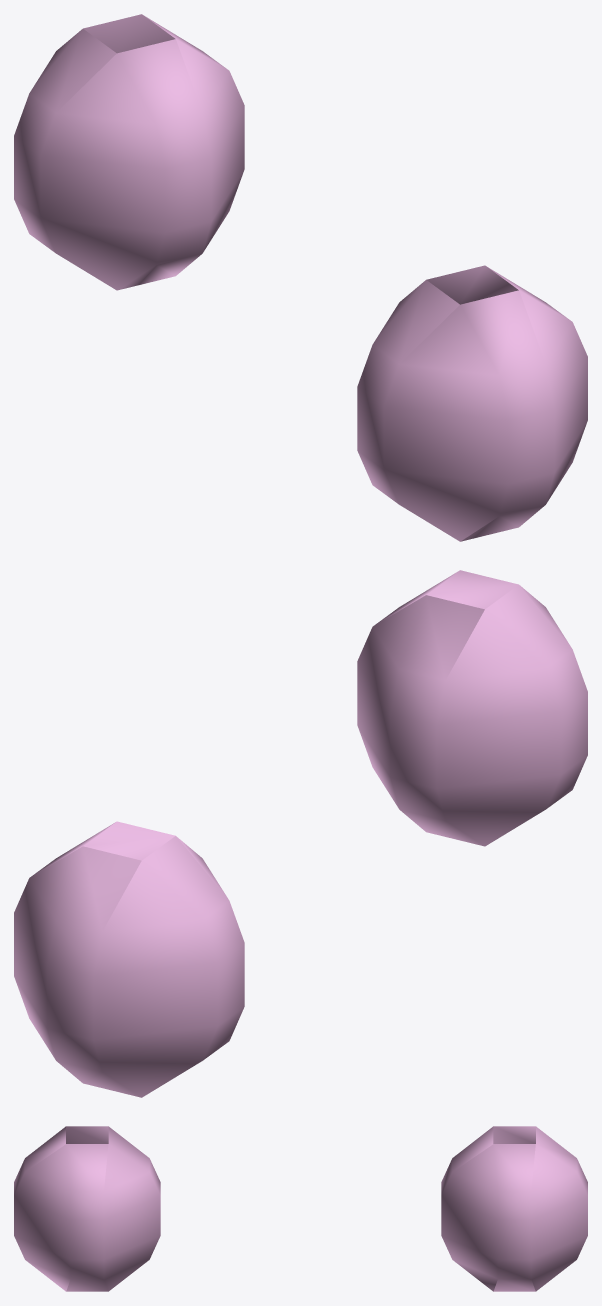
Rendered from PlushieUsi.fbx.
The picture shows the model from 3 angles, top to bottom: view 1: azimuth 30°, elevation 25°; view 2: azimuth 150°, elevation 25°; view 3: azimuth 270°, elevation 25°; orthographic projection. The views are drawn at different scales.
Visible parts, largest first — view 1: Sphere; view 2: Sphere; view 3: Sphere.
Part boxes in pixels (box(x1,y1,x2,y2)): Sphere: box(14, 14, 587, 541); Sphere: box(14, 570, 587, 1097); Sphere: box(14, 1126, 587, 1291).
Bounding box in the file's own units: 0.3825 × 0.4248 × 1.5.
